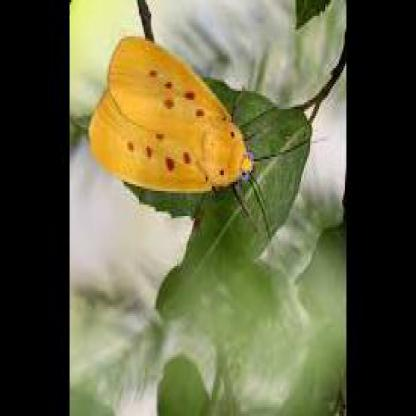Leaf Webber: (89, 34, 260, 201)
